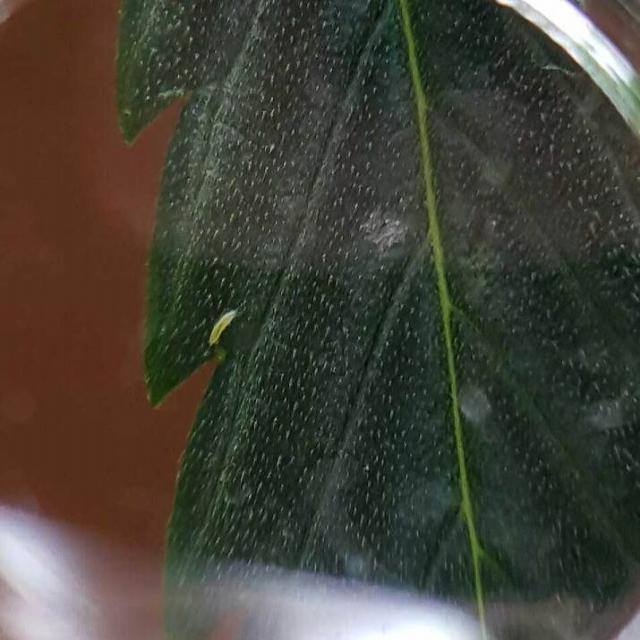Thrip-Larva-: (204, 300, 242, 353)
